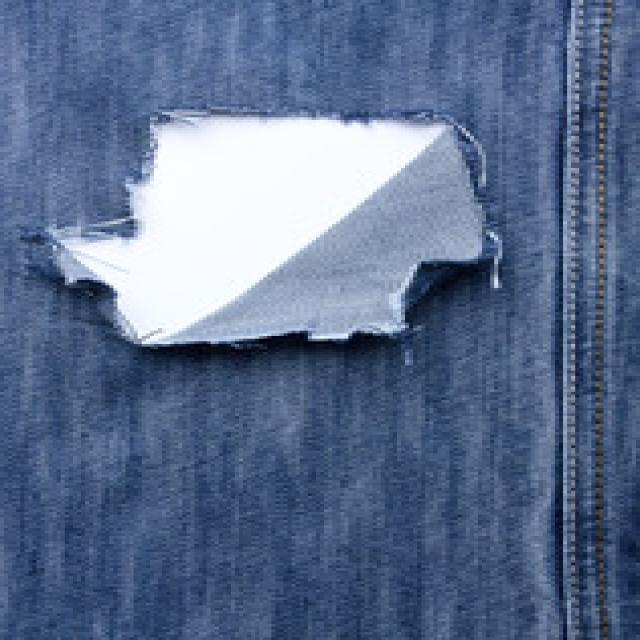Hole: (52, 111, 495, 345)
Line: (595, 0, 614, 640)
